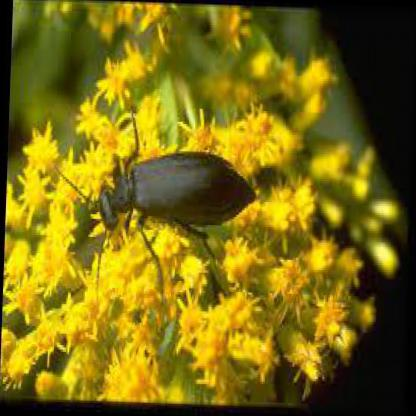blister beetle: (98, 115, 260, 241)
